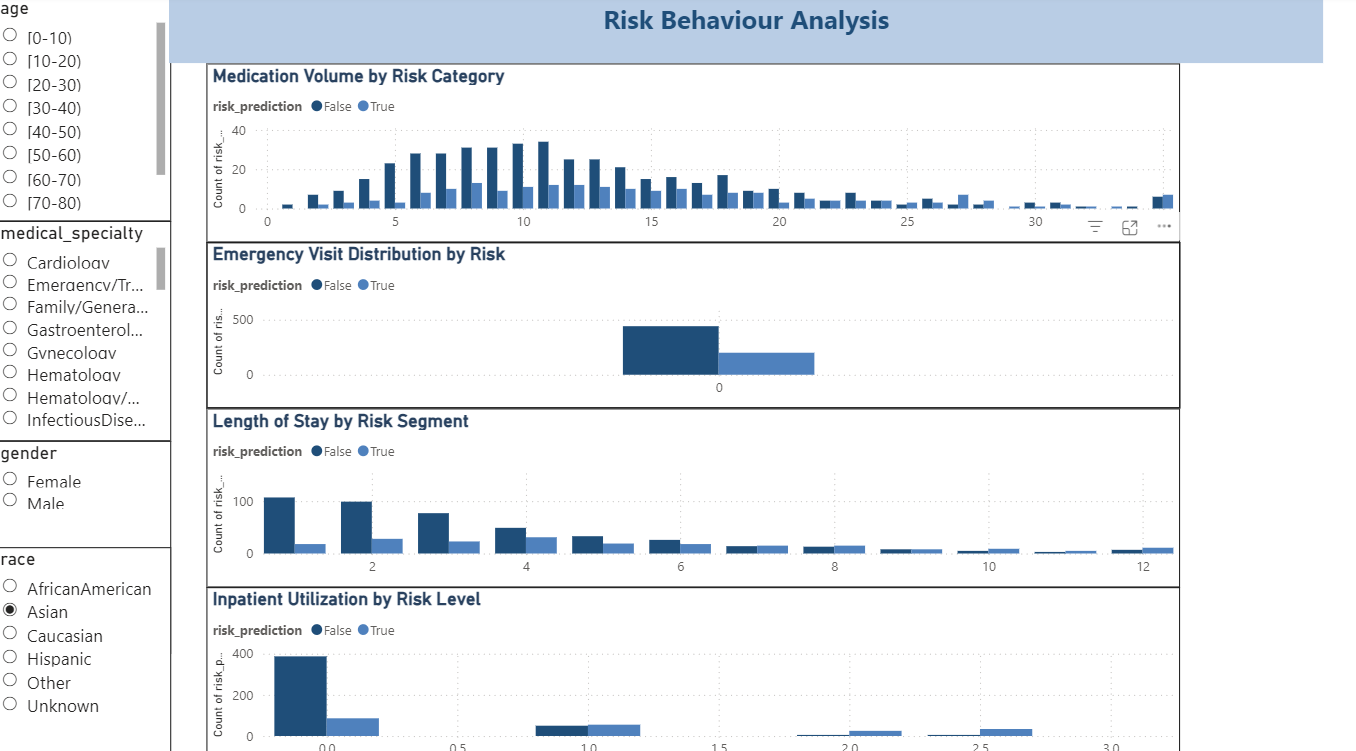

This screenshot's page, from the dashboard's own definition file:
{"tool":"powerbi","page":{"name":"Risk Analysis","canvas":[1280,720],"ordinal":1},"visuals":[{"type":"listSlicer","fields":{"Values":["final_data_clean.age"]},"box":[0,0,165.1,209.3],"z":0},{"type":"listSlicer","fields":{"Values":["final_data_clean.gender"]},"box":[0,414,165.1,197.7],"z":1000},{"type":"listSlicer","fields":{"Values":["final_data_clean.race"]},"box":[0,512.5,165,207.5],"z":2000},{"type":"listSlicer","fields":{"Values":["final_data_clean.medical_specialty"]},"box":[0,209.3,165.1,204.7],"z":3000},{"type":"clusteredColumnChart","title":"Length of Stay by Risk Segment","fields":{"Category":["final_data_clean.time_in_hospital"],"Series":["final_data_clean.risk_prediction"],"Y":["CountNonNull(final_data_clean.risk_prediction)"]},"box":[197.7,383.7,905.8,166.3],"z":4000},{"type":"clusteredColumnChart","title":"Medication Volume by Risk Category","fields":{"Category":["final_data_clean.num_medications"],"Series":["final_data_clean.risk_prediction"],"Y":["CountNonNull(final_data_clean.risk_prediction)"]},"box":[197.7,62.8,905.8,166.3],"z":5000},{"type":"clusteredColumnChart","title":"Emergency Visit Distribution by Risk","fields":{"Category":["final_data_clean.number_emergency"],"Series":["final_data_clean.risk_prediction"],"Y":["CountNonNull(final_data_clean.risk_prediction)"]},"box":[197.7,229.1,905.8,154.7],"z":6000},{"type":"clusteredColumnChart","title":"Inpatient Utilization by Risk Level","fields":{"Category":["final_data_clean.number_inpatient"],"Series":["final_data_clean.risk_prediction"],"Y":["CountNonNull(final_data_clean.risk_prediction)"]},"box":[197.7,550,905.8,169.8],"z":7000},{"type":"textbox","box":[162.5,0,1073.8,62.5],"z":9000}]}

Visuals, with their boxes in screenshot pixels (x1, y1, x2, y2):
listSlicer - final_data_clean.age: {"x1": 0, "y1": 0, "x2": 169, "y2": 220}
listSlicer - final_data_clean.gender: {"x1": 0, "y1": 439, "x2": 169, "y2": 650}
listSlicer - final_data_clean.race: {"x1": 0, "y1": 544, "x2": 169, "y2": 750}
listSlicer - final_data_clean.medical_specialty: {"x1": 0, "y1": 220, "x2": 169, "y2": 439}
"Length of Stay by Risk Segment" clusteredColumnChart: {"x1": 204, "y1": 406, "x2": 1172, "y2": 584}
"Medication Volume by Risk Category" clusteredColumnChart: {"x1": 204, "y1": 64, "x2": 1172, "y2": 241}
"Emergency Visit Distribution by Risk" clusteredColumnChart: {"x1": 204, "y1": 241, "x2": 1172, "y2": 406}
"Inpatient Utilization by Risk Level" clusteredColumnChart: {"x1": 204, "y1": 584, "x2": 1172, "y2": 750}
textbox: {"x1": 167, "y1": 0, "x2": 1313, "y2": 63}
